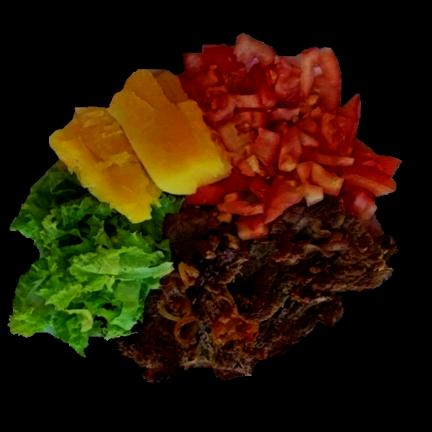cassava: (51, 74, 231, 222)
meat: (116, 202, 396, 381)
salad: (10, 167, 182, 354)
tomato: (182, 36, 401, 238)
